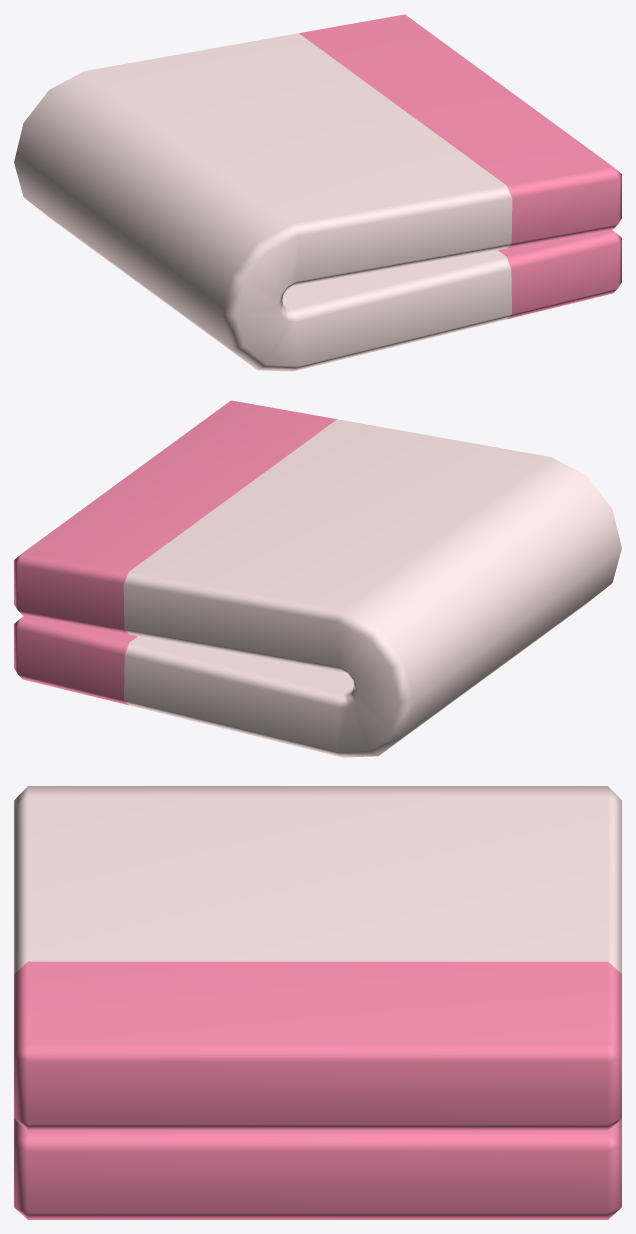
File: Public_13_Towel_1.glb
3 views of the same model, one above another, from view 1: azimuth 30°, elevation 25°; view 2: azimuth 150°, elevation 25°; view 3: azimuth 270°, elevation 25° (orthographic). The views are drawn at different scales.
Visible parts, largest first — view 1: Public_13_Towel_1; view 2: Public_13_Towel_1; view 3: Public_13_Towel_1.
Boxes of the visible parts, x1,y1,x2,y2 form: Public_13_Towel_1: (14, 14, 621, 371); Public_13_Towel_1: (14, 400, 621, 757); Public_13_Towel_1: (14, 786, 621, 1219).
Size of the model in its own units: 0.8268 by 0.2926 by 0.7823.
Materials: 1 (1 with a texture image).
